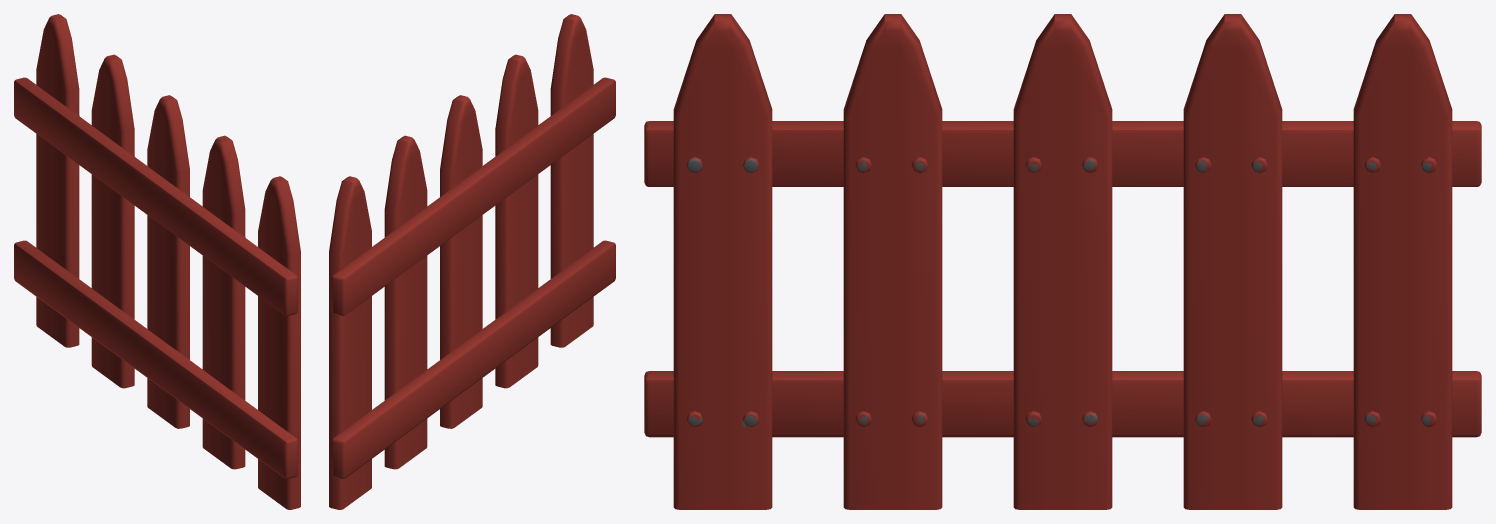
File: fence.fbx
The picture shows the model from 3 angles, left to right: view 1: azimuth 30°, elevation 25°; view 2: azimuth 150°, elevation 25°; view 3: azimuth 270°, elevation 25°; orthographic projection. The views are drawn at different scales.
Parts seen in each view (by area): view 1: node_id3; view 2: node_id3; view 3: node_id3.
Boxes of the visible parts, x1=… form: node_id3: x1=14, y1=14, x2=300, y2=509; node_id3: x1=329, y1=14, x2=615, y2=509; node_id3: x1=644, y1=14, x2=1481, y2=509.
Size of the model in its own units: 0.0492 by 0.512 by 0.7958.
1 material, 1 textured.
